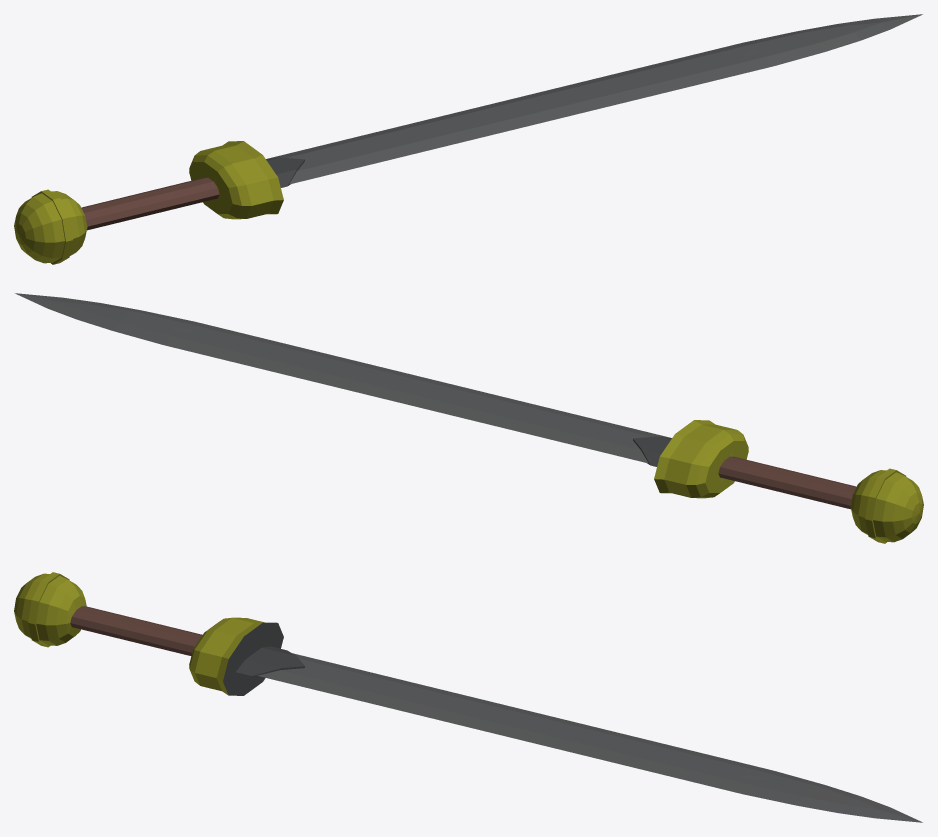
File: romansword.fbx
The picture shows the model from 3 angles, top to bottom: view 1: azimuth 30°, elevation 25°; view 2: azimuth 150°, elevation 25°; view 3: azimuth 330°, elevation 25°; orthographic projection.
Visible parts, largest first — view 1: Cube; view 2: Cube; view 3: Cube.
Part boxes in pixels (left/top/right/bottom): Cube: left=14, top=14, right=922, bottom=264; Cube: left=15, top=293, right=923, bottom=543; Cube: left=14, top=572, right=922, bottom=822.
Size of the model in its own units: 634 by 43.61 by 74.16.
1 material, 1 textured.
